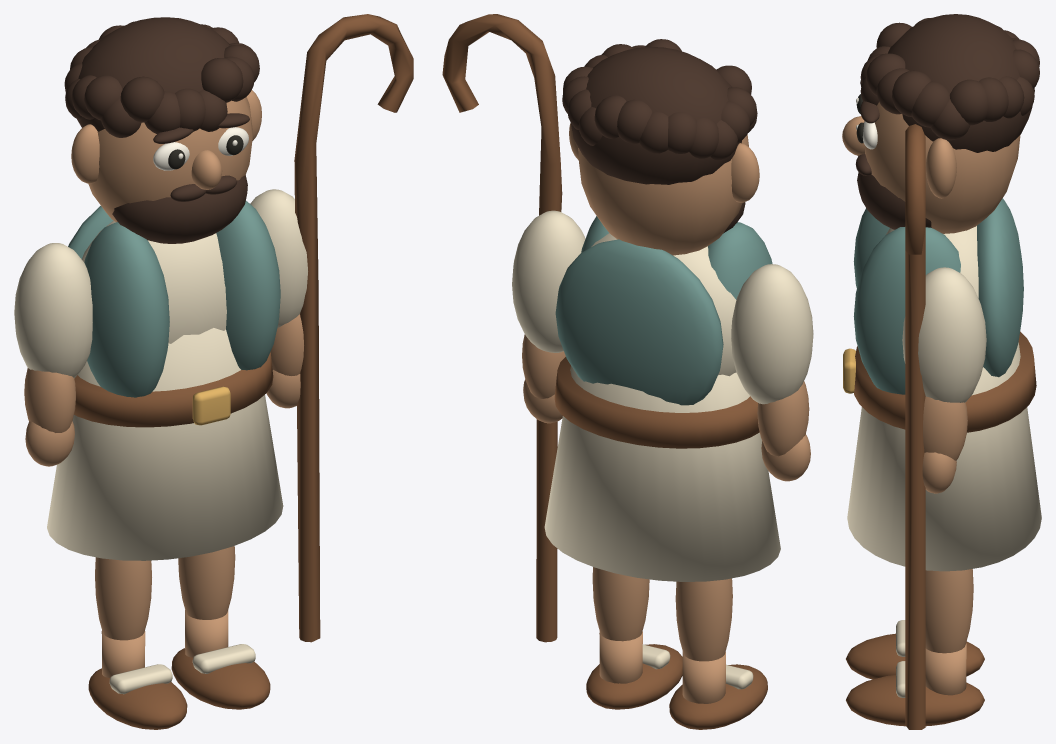
The model's file is shepherd-prototype.glb.
The picture shows the model from 3 angles, left to right: view 1: azimuth 30°, elevation 25°; view 2: azimuth 150°, elevation 25°; view 3: azimuth 270°, elevation 25°; orthographic projection.
Visible parts, largest first — view 1: Linen tunic, Crook, Vest panel, SleeveL, Hair cap, Vest panel.001, Head, Belt, Torso, Beard, CalfL, SleeveR (+22 smaller); view 2: Linen tunic, Vest back, Hair cap, Crook, Head, SleeveL, Belt, SleeveR, CalfL, CalfR, SandalL, SandalR (+17 smaller); view 3: Linen tunic, Crook, Hair cap, Vest panel.001, Head, SleeveR, Vest back, Belt, SandalR, CalfR, ForearmR, SandalL (+23 smaller).
Boxes of the visible parts, bbox=[...] form: Linen tunic: bbox=[47, 328, 283, 560]; Crook: bbox=[294, 14, 413, 642]; Vest panel: bbox=[84, 222, 169, 397]; SleeveL: bbox=[14, 243, 92, 378]; Hair cap: bbox=[77, 17, 229, 131]; Vest panel.001: bbox=[216, 200, 280, 370]; Head: bbox=[88, 97, 252, 222]; Belt: bbox=[74, 352, 273, 427]; Torso: bbox=[81, 220, 226, 343]; Beard: bbox=[112, 175, 247, 243]; CalfL: bbox=[95, 557, 151, 640]; SleeveR: bbox=[250, 189, 307, 327]; Linen tunic: bbox=[544, 366, 780, 581]; Vest back: bbox=[555, 239, 723, 405]; Hair cap: bbox=[571, 46, 741, 184]; Crook: bbox=[442, 14, 562, 642]; Head: bbox=[578, 134, 748, 255]; SleeveL: bbox=[731, 264, 813, 404]; Belt: bbox=[554, 357, 759, 448]; SleeveR: bbox=[512, 210, 585, 352]; CalfL: bbox=[675, 578, 732, 661]; CalfR: bbox=[592, 567, 649, 641]; SandalL: bbox=[669, 664, 767, 729]; SandalR: bbox=[586, 644, 682, 709]; Linen tunic: bbox=[847, 342, 1041, 571]; Crook: bbox=[905, 124, 925, 729]; Hair cap: bbox=[888, 14, 1034, 152]; Vest panel.001: bbox=[853, 227, 960, 394]; Head: bbox=[864, 102, 1020, 233]; SleeveR: bbox=[902, 267, 986, 402]; Vest back: bbox=[977, 198, 1023, 377]; Belt: bbox=[854, 331, 1036, 432]; SandalR: bbox=[846, 675, 984, 726]; CalfR: bbox=[925, 569, 973, 653]; ForearmR: bbox=[923, 396, 967, 460]; SandalL: bbox=[846, 633, 984, 679].
Bounding box in the file's own units: 1.37 × 2.3 × 0.6163.
